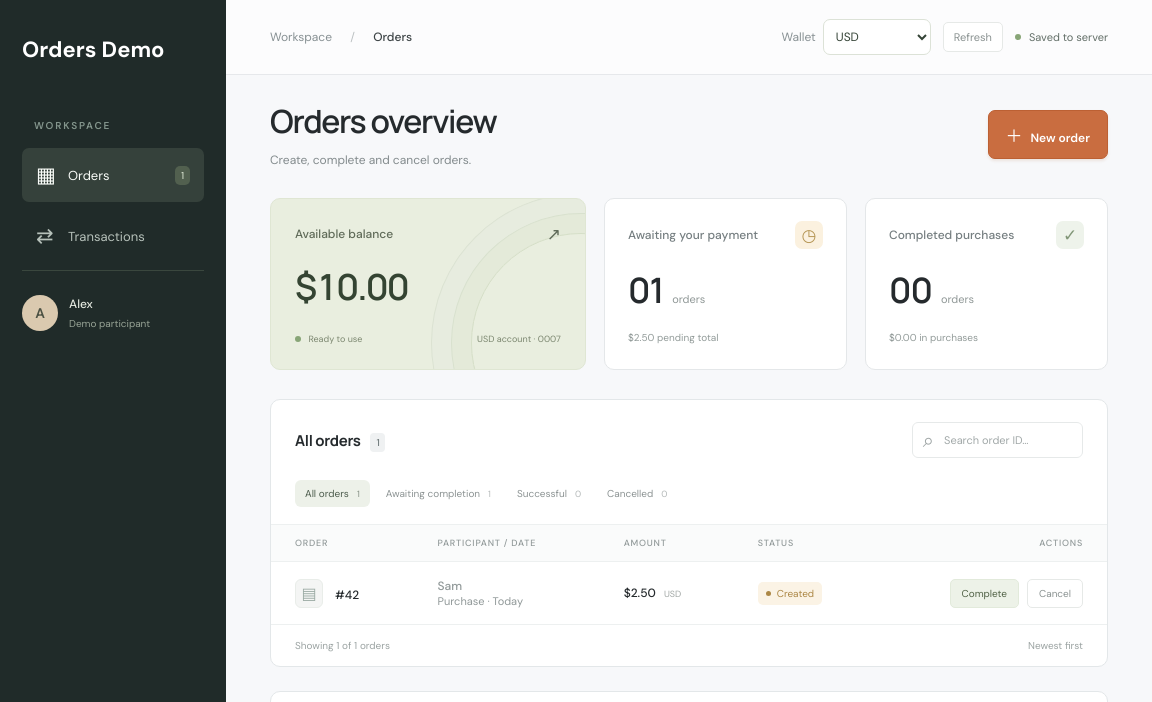
it: creates an order with a selected seller and exact minor units
Step 1. Click the button "＋ New order" → (1048, 134), box [988,110,1108,159]
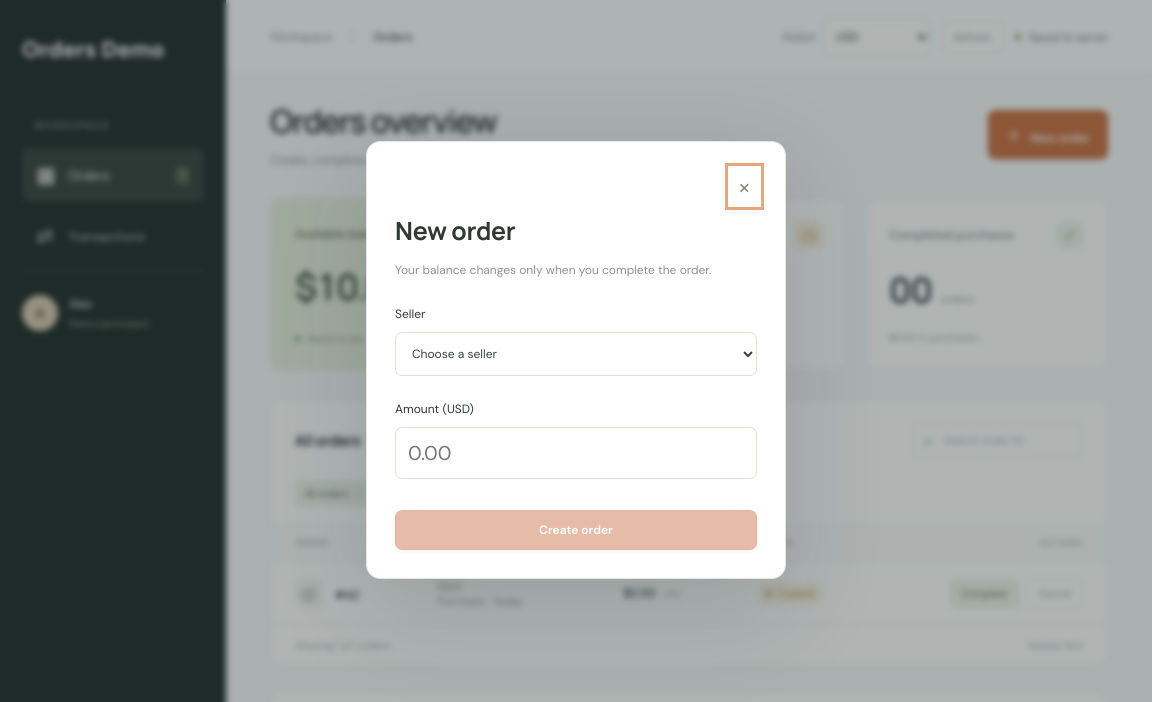
Step 2. Select "Sam" in the dropdown labelled "Seller" → (576, 354), box [395,332,757,376]
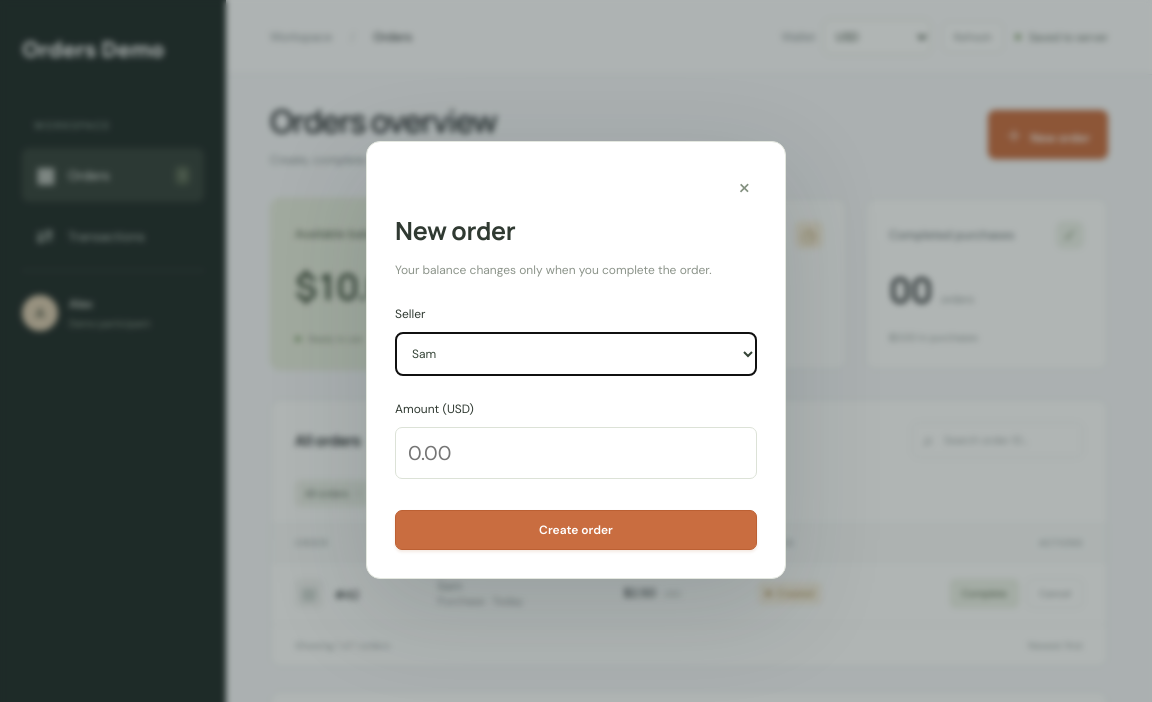
Step 3. Type "0.29" into the field labelled "Amount (USD)" → (576, 453), box [395,427,757,479]
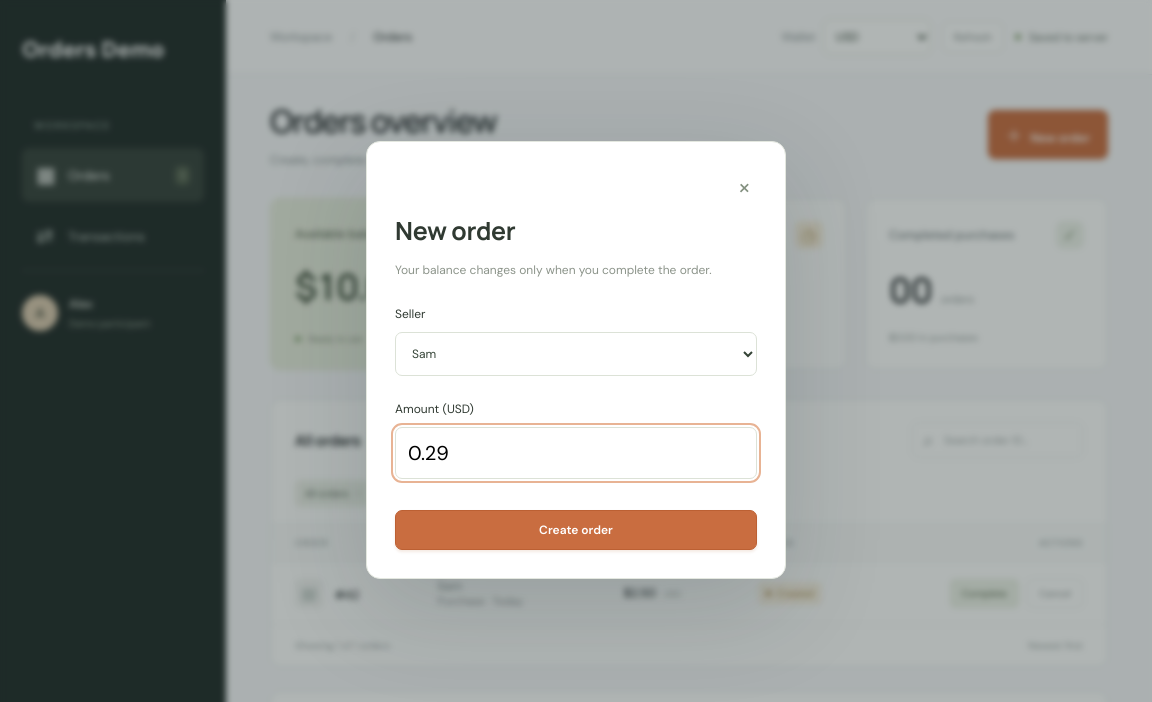
Step 4. Click the button "Create order" → (576, 530), box [395,510,757,550]
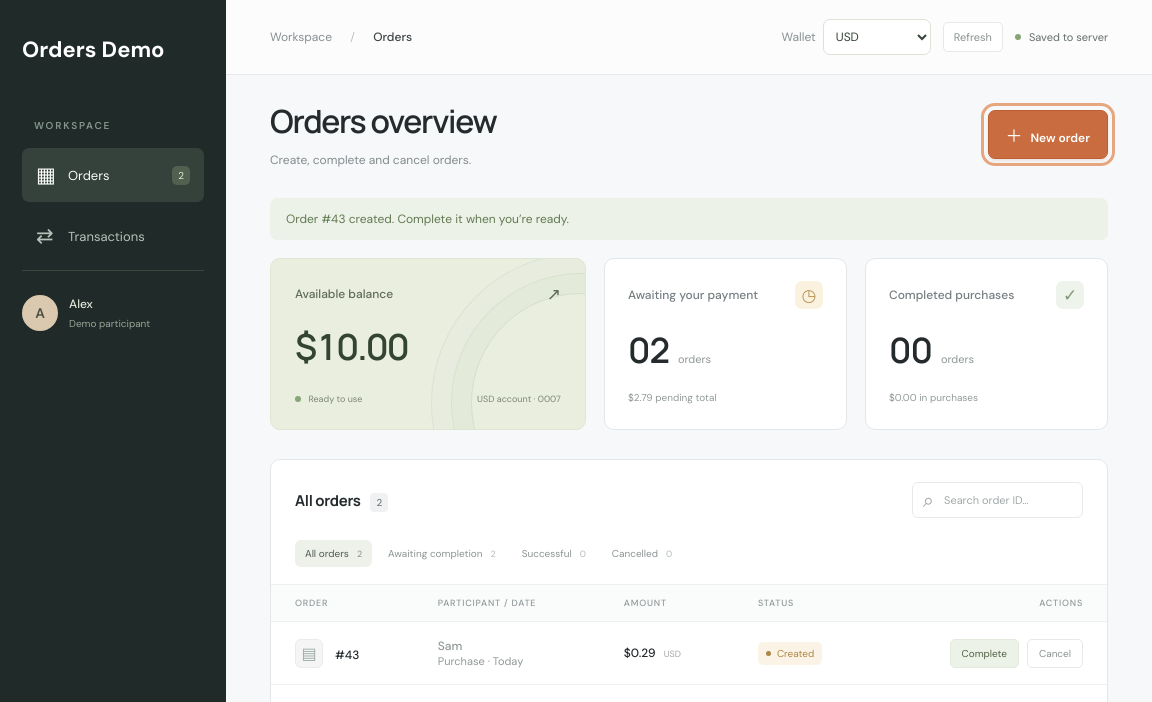
expect the text named "Balance" shows "10.00": met, box [295,322,408,371]
expect the text "#43" is shown: met, box [335,647,360,663]
